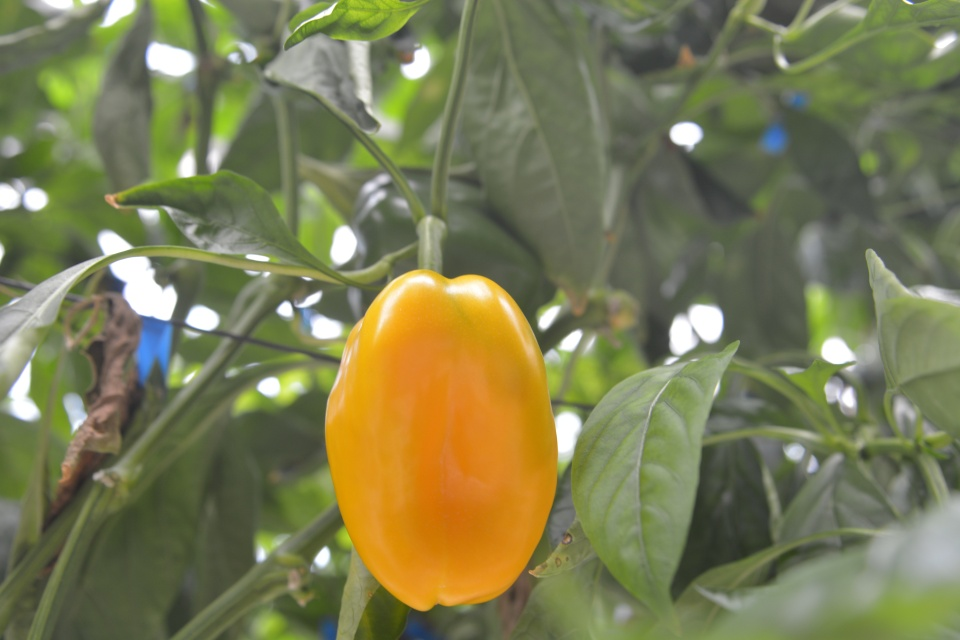fruit: (319, 263, 565, 613), (344, 167, 547, 343)
